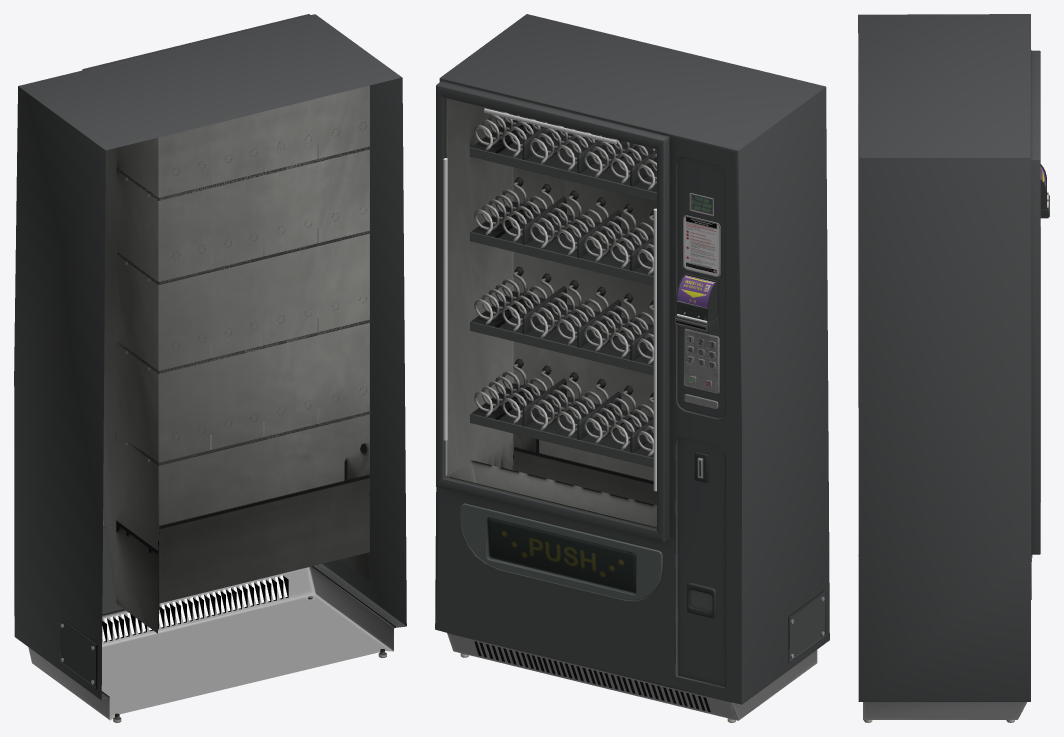
File: vending_machine_optimized.glb
The picture shows the model from 3 angles, left to right: view 1: azimuth 30°, elevation 25°; view 2: azimuth 150°, elevation 25°; view 3: azimuth 270°, elevation 25°; orthographic projection.
Visible parts, largest first — view 1: polySurface262, polySurface322, polySurface362, polySurface265_vn2:lambert2_0.001, polySurface265_vn2:lambert2_0.002, polySurface265, polySurface266; view 2: polySurface322, polySurface262, nk1:pCube429, polySurface265, polySurface266, polySurface265_vn2:lambert2_0.002, polySurface265_vn2:lambert2_0.001, polySurface362, light3, light2, light1; view 3: polySurface322, nk1:pCube429.
Part boxes in pixels (box(x1,y1,x2,y2)): polySurface262: box(103, 85, 369, 633); polySurface322: box(14, 14, 406, 720); polySurface362: box(102, 575, 288, 642); polySurface265_vn2:lambert2_0.001: box(115, 122, 370, 200); polySurface265_vn2:lambert2_0.002: box(115, 209, 370, 284); polySurface265: box(115, 297, 370, 373); polySurface266: box(115, 387, 370, 465); polySurface322: box(435, 14, 829, 720); polySurface262: box(445, 98, 656, 528); nk1:pCube429: box(461, 193, 720, 618); polySurface265: box(470, 266, 653, 375); polySurface266: box(470, 358, 653, 467); polySurface265_vn2:lambert2_0.002: box(470, 177, 653, 285); polySurface265_vn2:lambert2_0.001: box(470, 110, 656, 201); polySurface362: box(474, 641, 710, 712); light3: box(443, 158, 447, 440); light2: box(653, 208, 656, 491); light1: box(484, 108, 616, 144); polySurface322: box(858, 14, 1040, 719); nk1:pCube429: box(1031, 164, 1049, 599).
Bounding box in the file's own units: 5.94 × 10.71 × 3.25.
7 materials, 6 textured.
